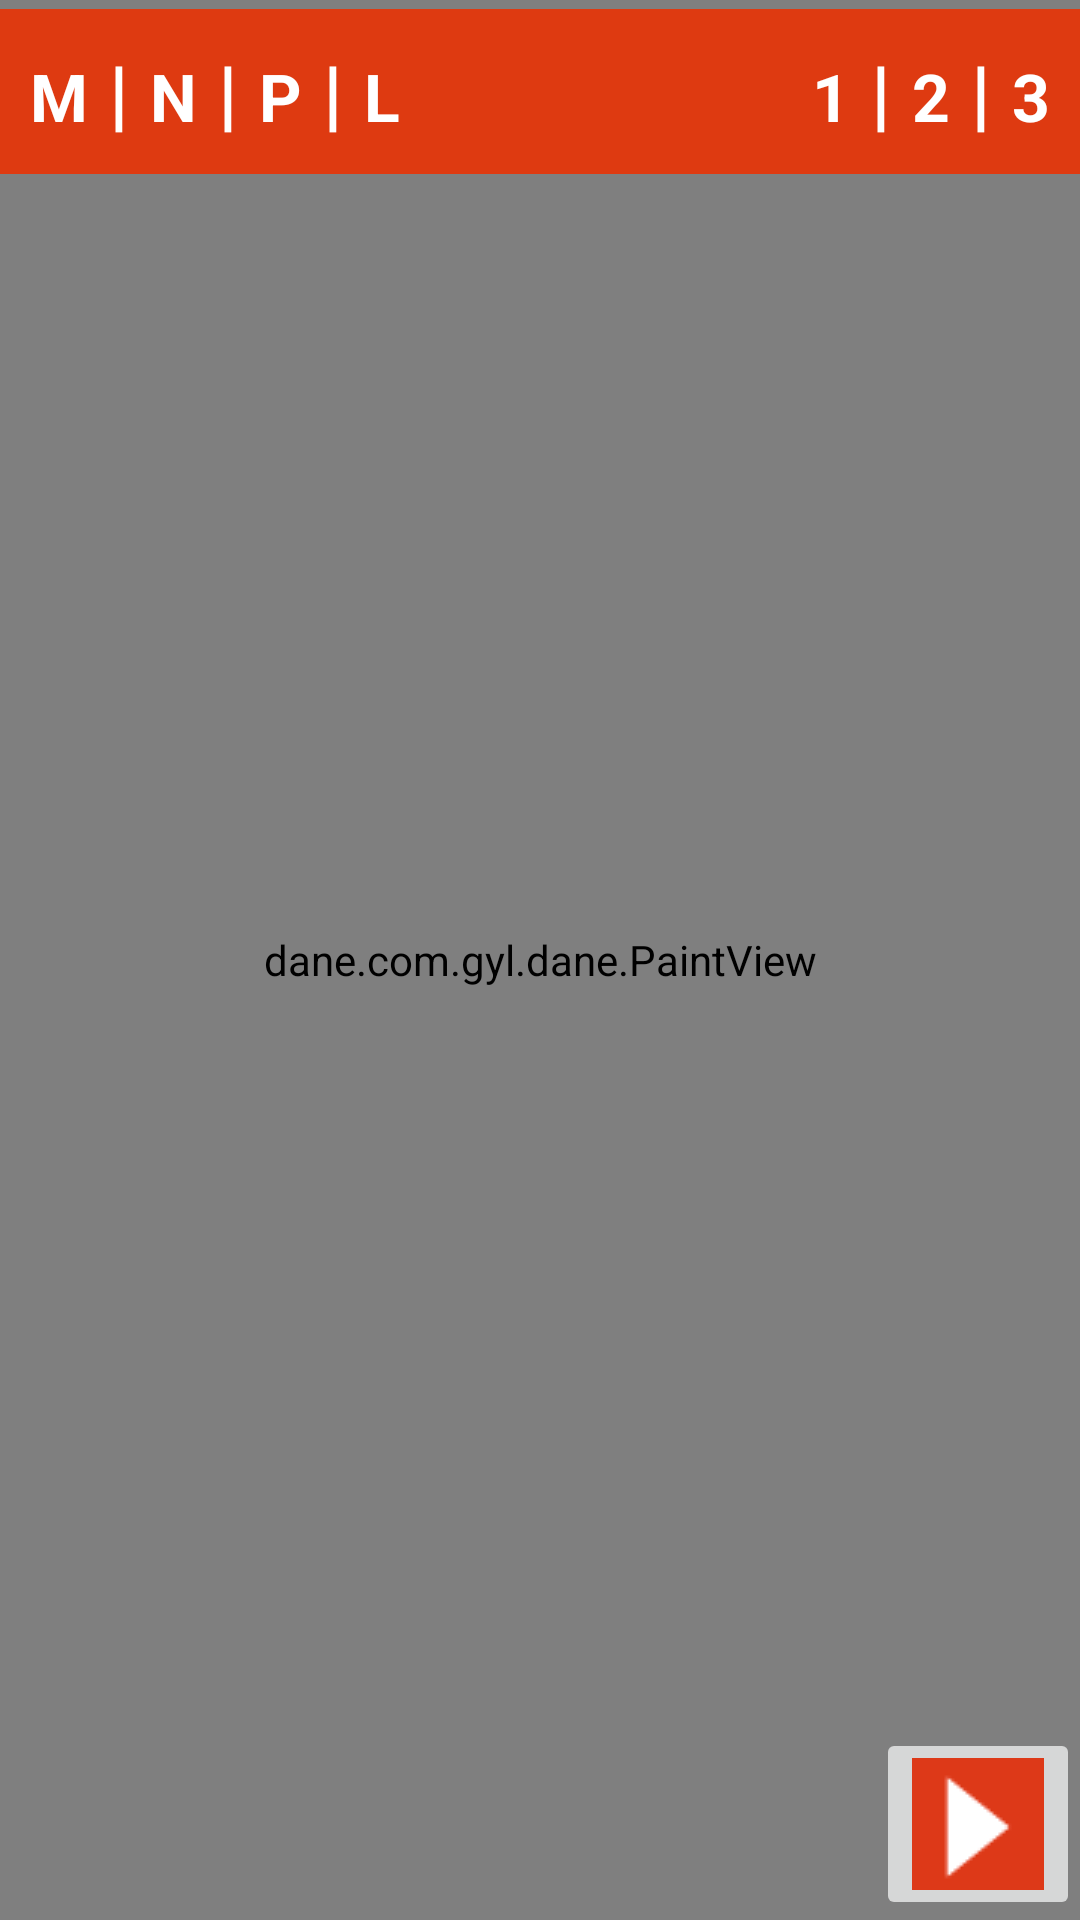

Screen size 1080px x 1920px. Icon name, then its center in pixels as point (x, y):
flechita: point (978, 1824)
